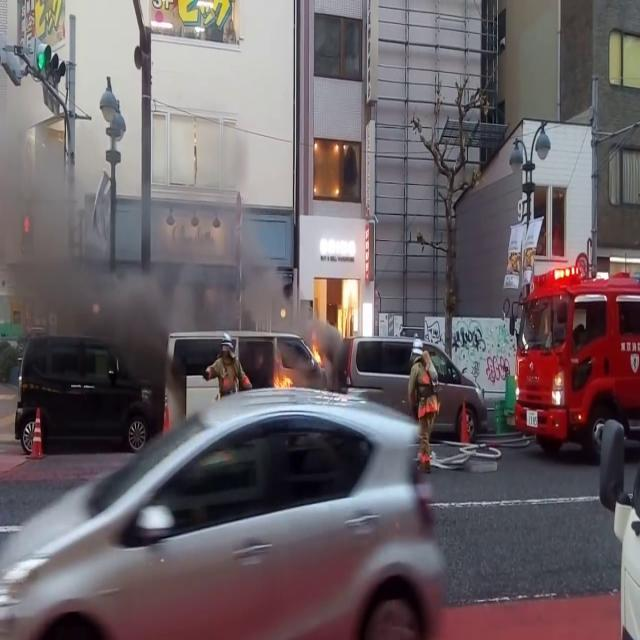Fire: (334, 266, 366, 340)
Smoke: (0, 30, 282, 342)
